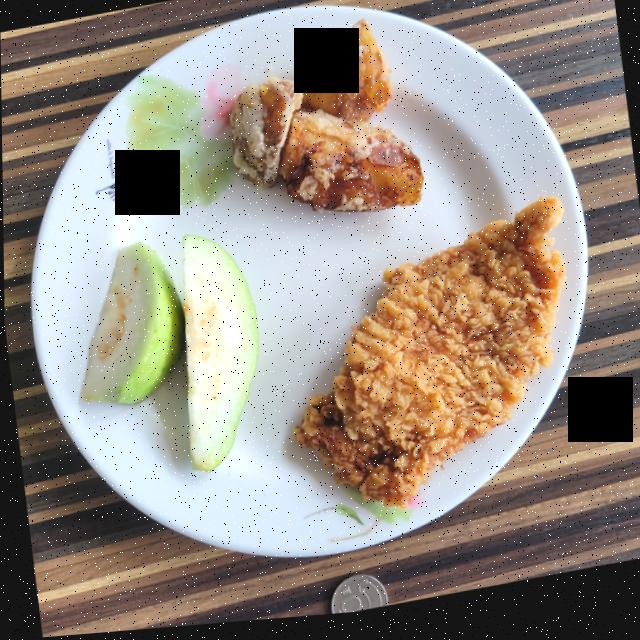coin: (328, 580, 385, 619)
fried chicken cutlet: (291, 206, 563, 514)
fried potato: (228, 26, 421, 218)
guava -sliced-: (78, 237, 257, 475)
